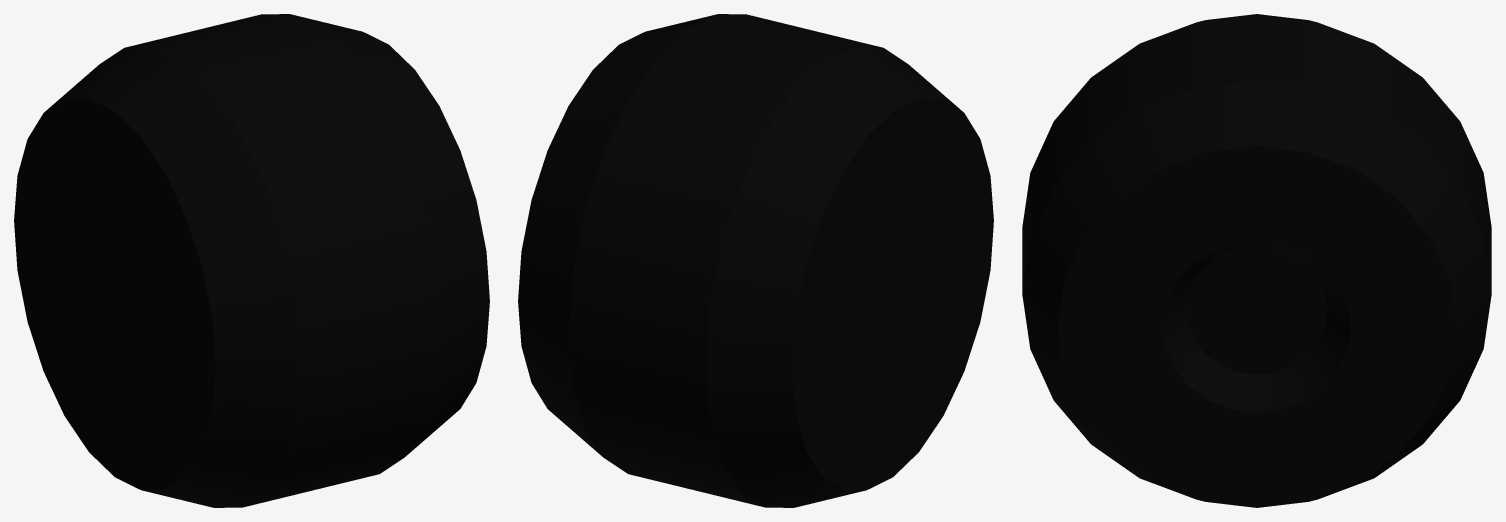
Rendered from wheel-default.glb.
3 renders of one model, left to right at view 1: azimuth 30°, elevation 25°; view 2: azimuth 150°, elevation 25°; view 3: azimuth 270°, elevation 25°, orthographic.
Parts seen in each view (by area): view 1: wheel-default; view 2: wheel-default; view 3: wheel-default.
Part boxes in pixels (box(x1,y1,x2,y2)): wheel-default: box(14, 14, 489, 507); wheel-default: box(518, 14, 993, 507); wheel-default: box(1022, 14, 1491, 507).
Bounding box in the file's own units: 0.4001 × 0.6 × 0.6.
Materials: 1 (1 with a texture image).
